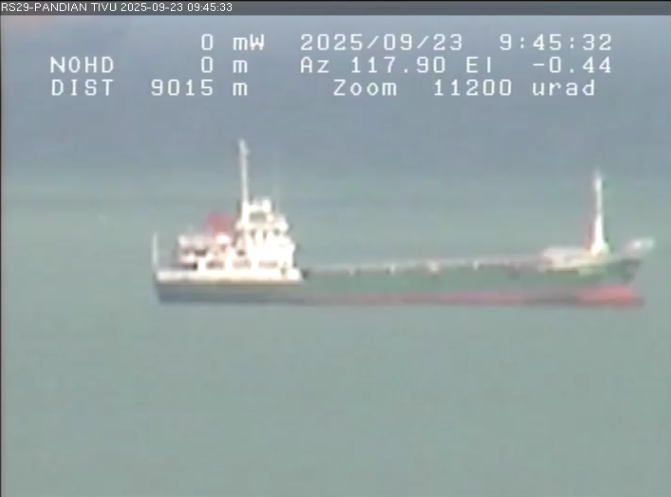CARGO_SHIPS: (140, 119, 665, 328)
